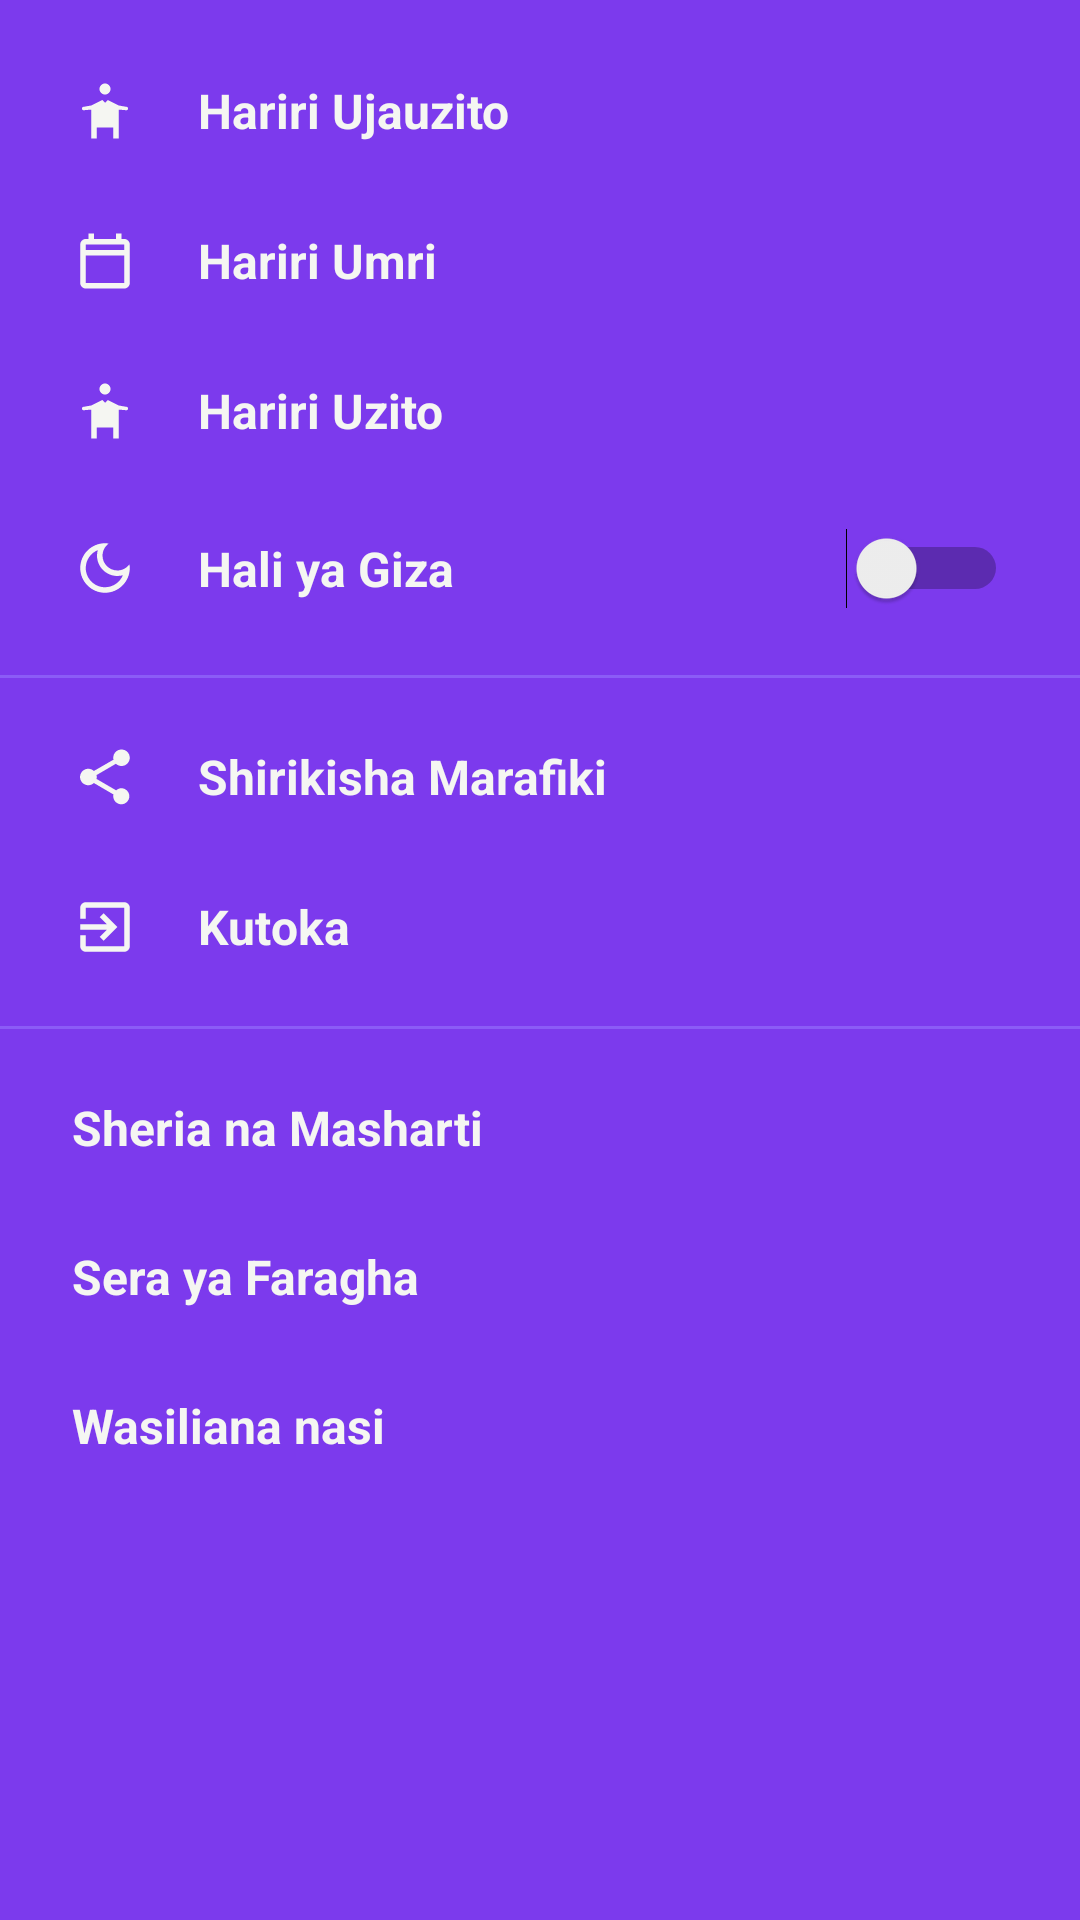

Locate icon controls on the screen. Image size 1080px×1920px, boxes as (x1, y1, x2, y2).
calendar: (80, 233, 130, 289)
exit: (80, 902, 130, 952)
moon: (80, 543, 130, 593)
person standing: (82, 83, 128, 139), (82, 383, 128, 439)
share: (80, 749, 130, 805)
